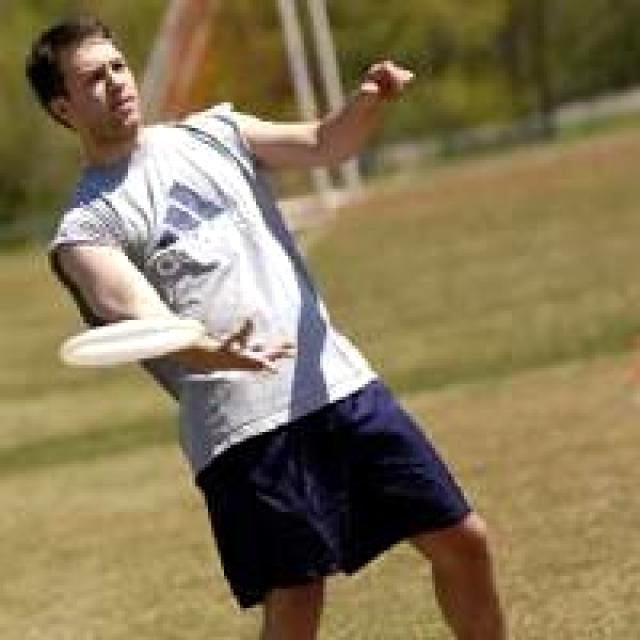no_head_wear: (26, 16, 112, 64)
person: (26, 19, 506, 637)
